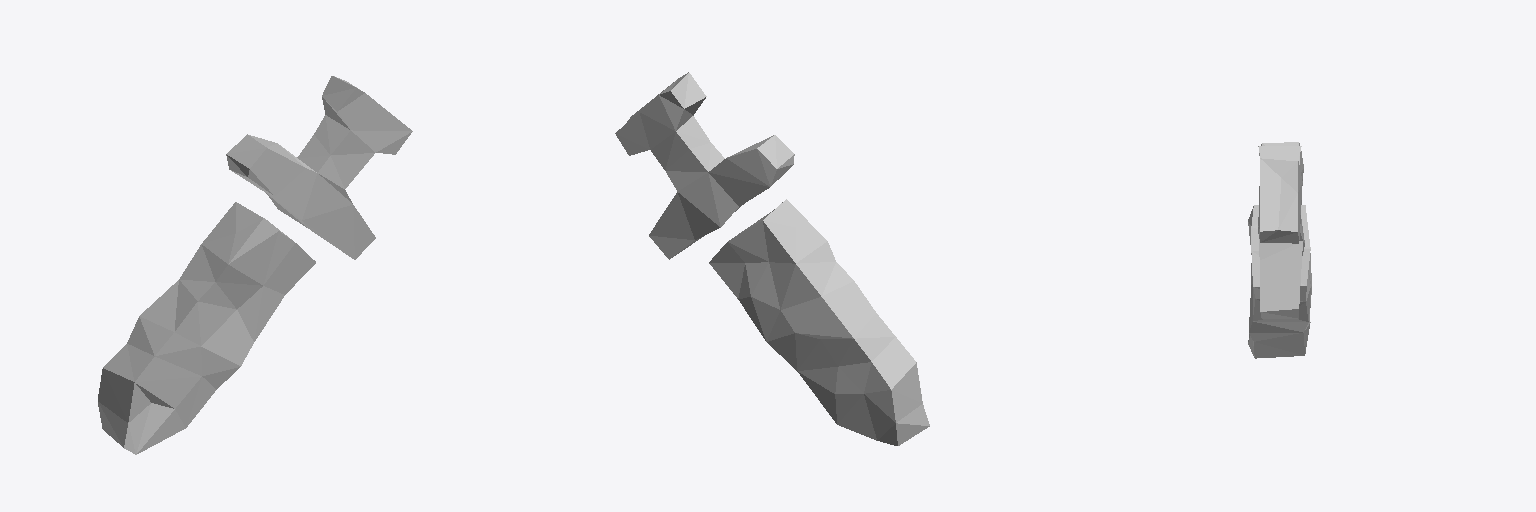
Rendered from 3d_sword.obj.
The picture shows the model from 3 angles: view 1: azimuth 30°, elevation 25°; view 2: azimuth 150°, elevation 25°; view 3: azimuth 270°, elevation 25°; orthographic projection.
Visible parts, largest first — view 1: Sword_Curve.015; view 2: Sword_Curve.015; view 3: Sword_Curve.015.
Part boxes in pixels (left/top/right/bottom): Sword_Curve.015: left=98, top=76, right=412, bottom=454; Sword_Curve.015: left=615, top=72, right=929, bottom=445; Sword_Curve.015: left=1248, top=142, right=1311, bottom=358.
Size of the model in its own units: 0.8235 by 0.8247 by 0.1555.